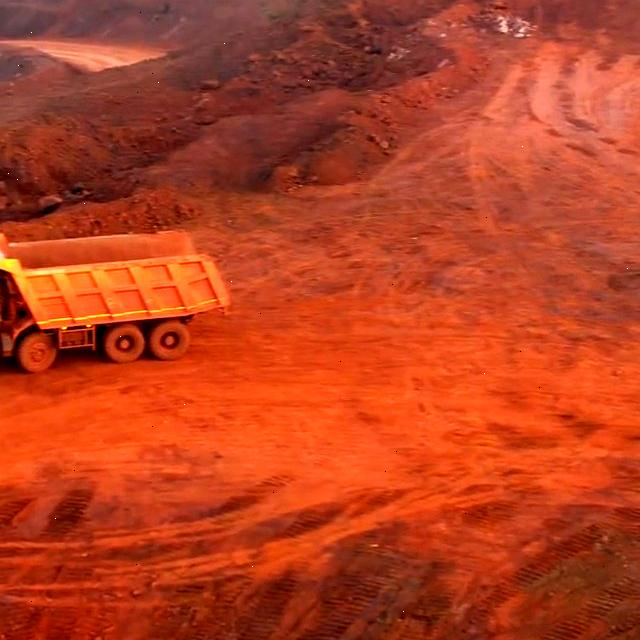Dumper truck: (0, 226, 208, 374)
